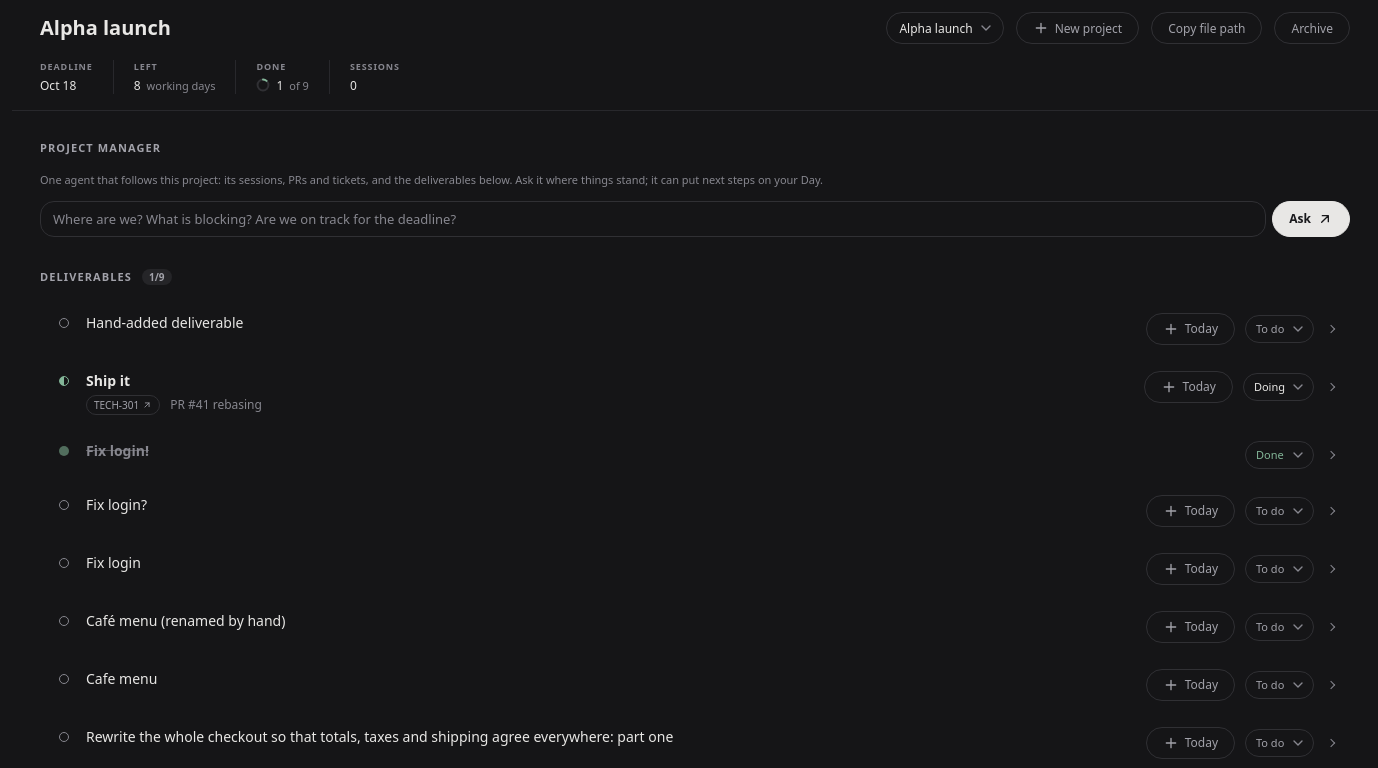
Test case: Projects pane › says the manager is starting when it did
Expected: the heading "Alpha launch" is shown, [40, 14, 171, 41]
Click the button "New project".
click(1077, 28)  # box [1016, 12, 1139, 44]
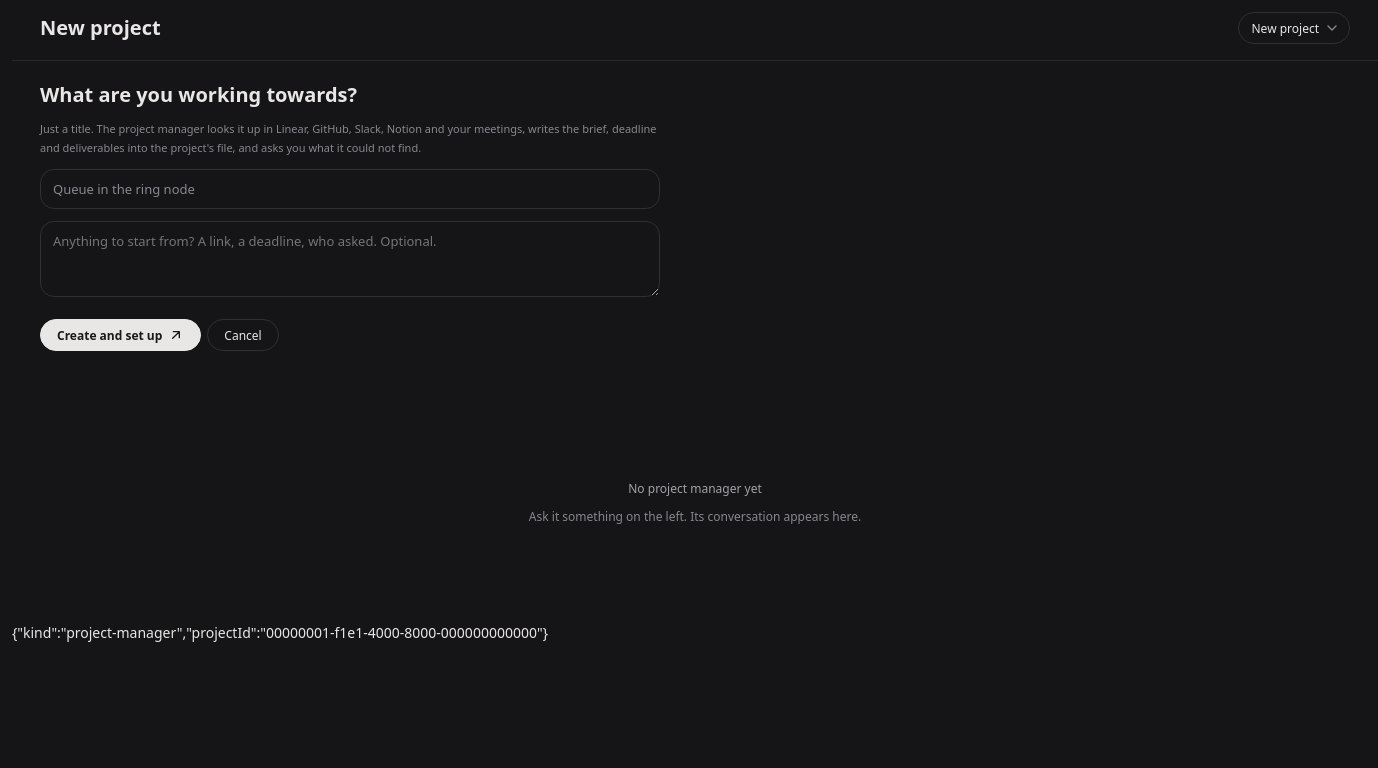
Type "Fresh" into the field named "Project title".
click(350, 189); type("Fresh")  # box [40, 169, 660, 209]
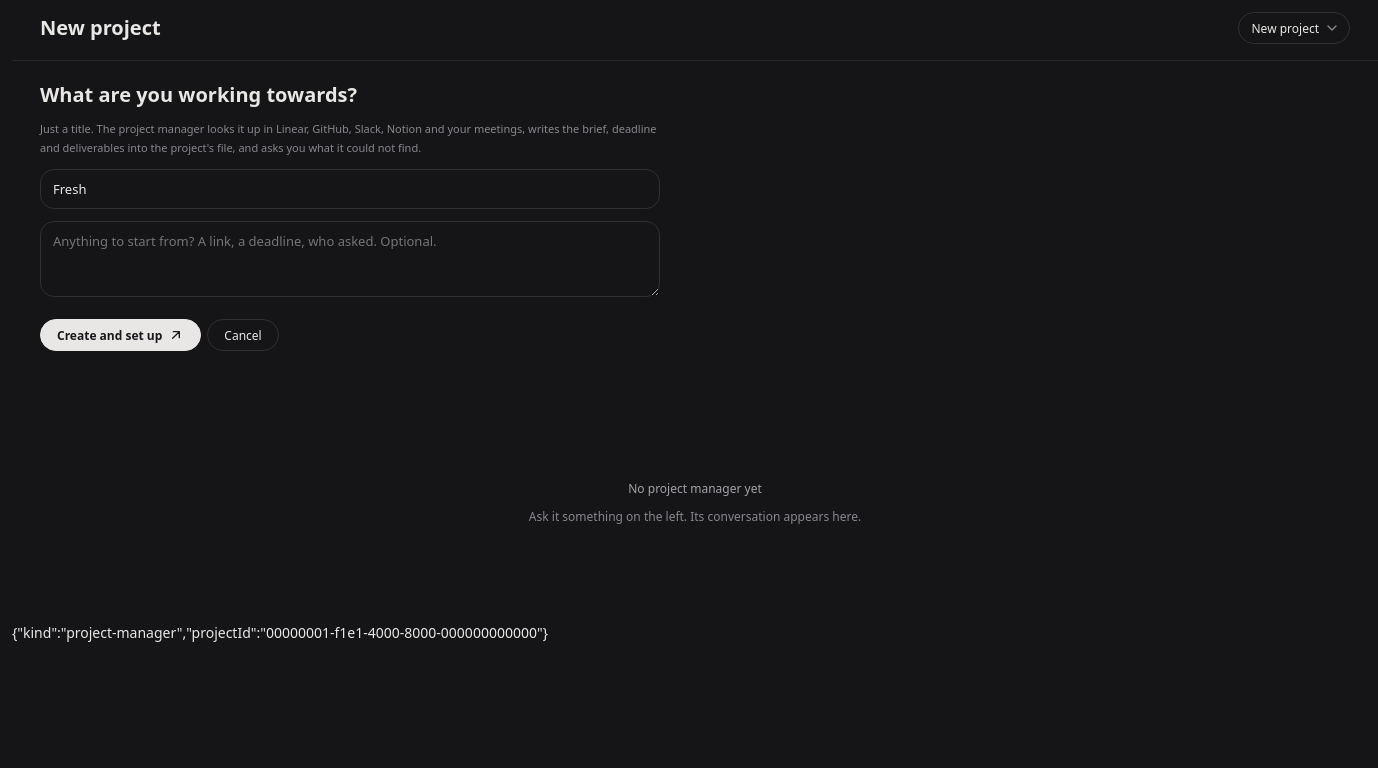
Submit the form, box [40, 81, 660, 351]
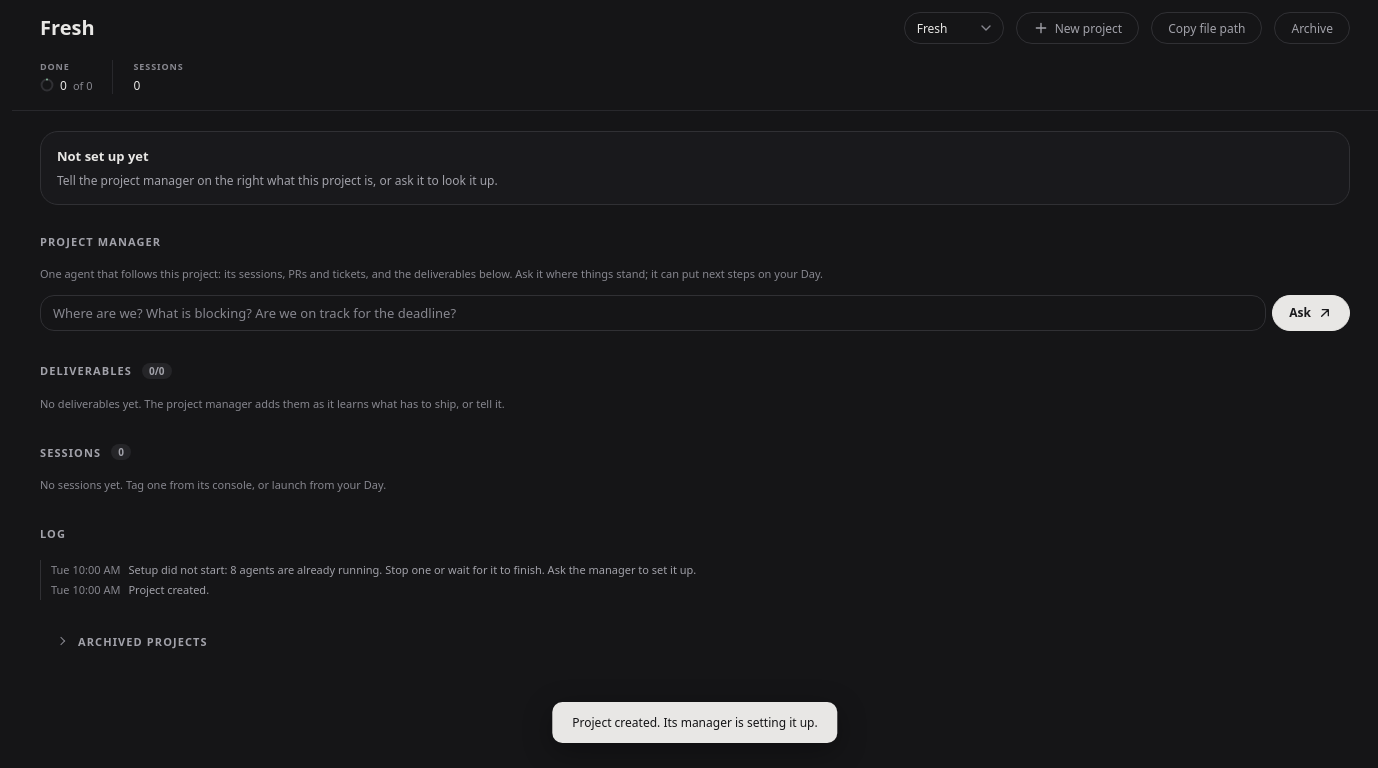
Expected: the message with id "toast" reads "Project created. Its manager is setting it up.", [572, 714, 818, 731]
